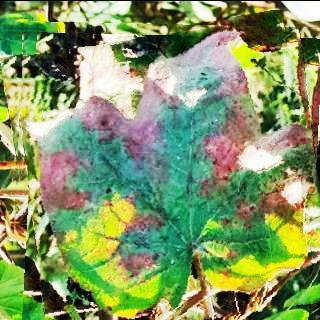blight: (9, 20, 320, 320)
